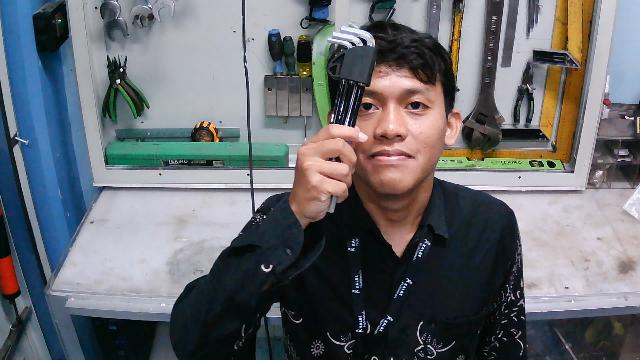kunci_l: (326, 19, 379, 218)
